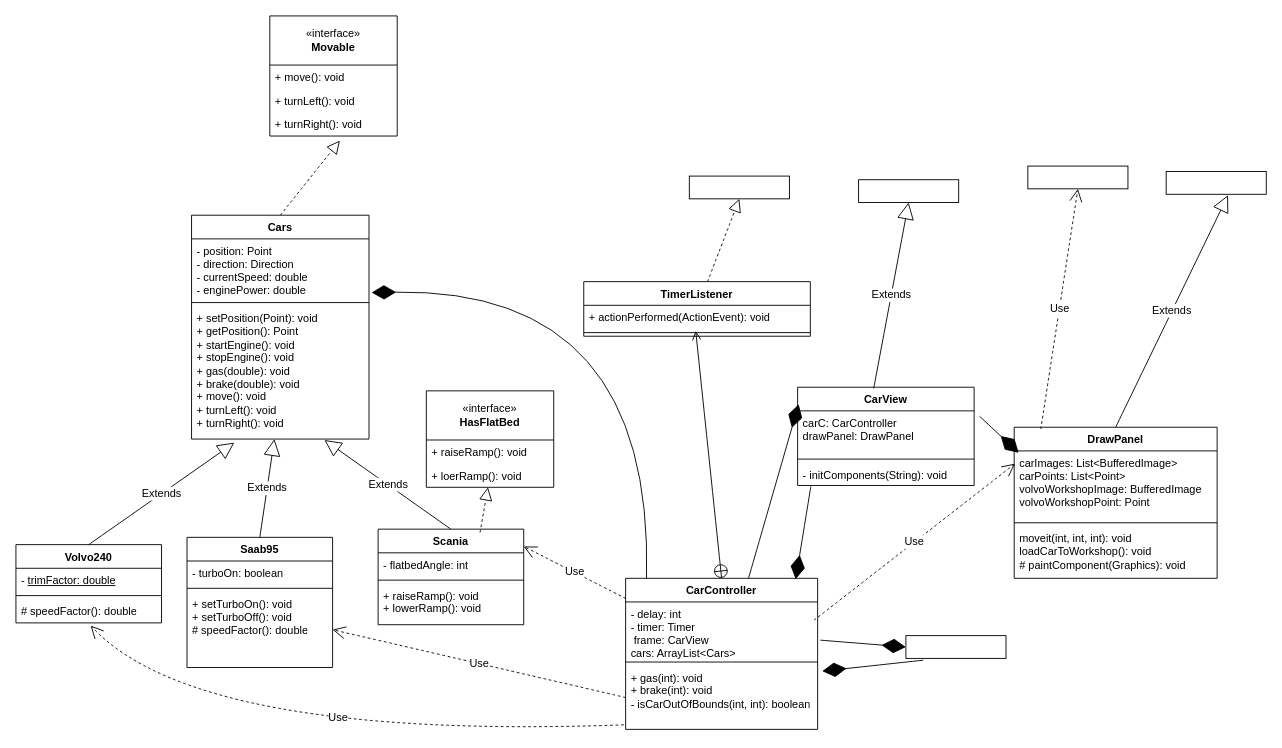
Some shapes in this 1282 by 748 pixel diagram are drawn without their labels. The centre of each missing label's shape, as x and y in pixels:
"ActionListener" belongs at pixel 738 187.
"CarController.Timer" belongs at pixel 955 646.
"Graphics" belongs at pixel 1077 177.
"JFrame" belongs at pixel 908 190.
"JPanel" belongs at pixel 1215 182.
